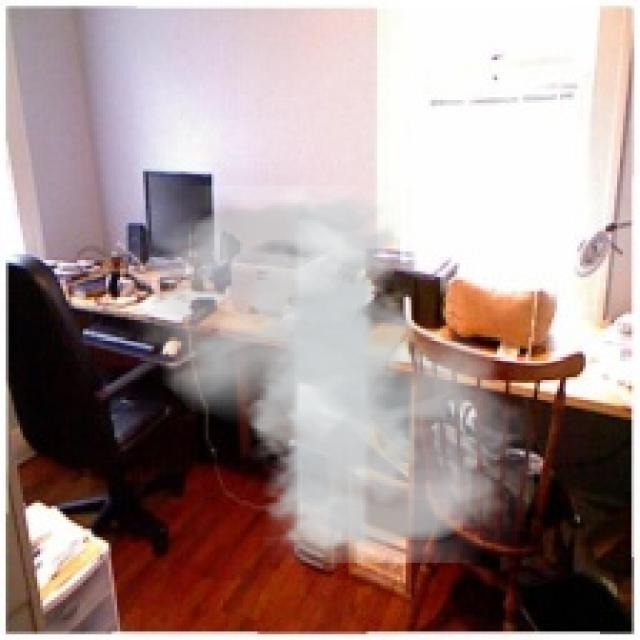smoke: (129, 186, 534, 563)
